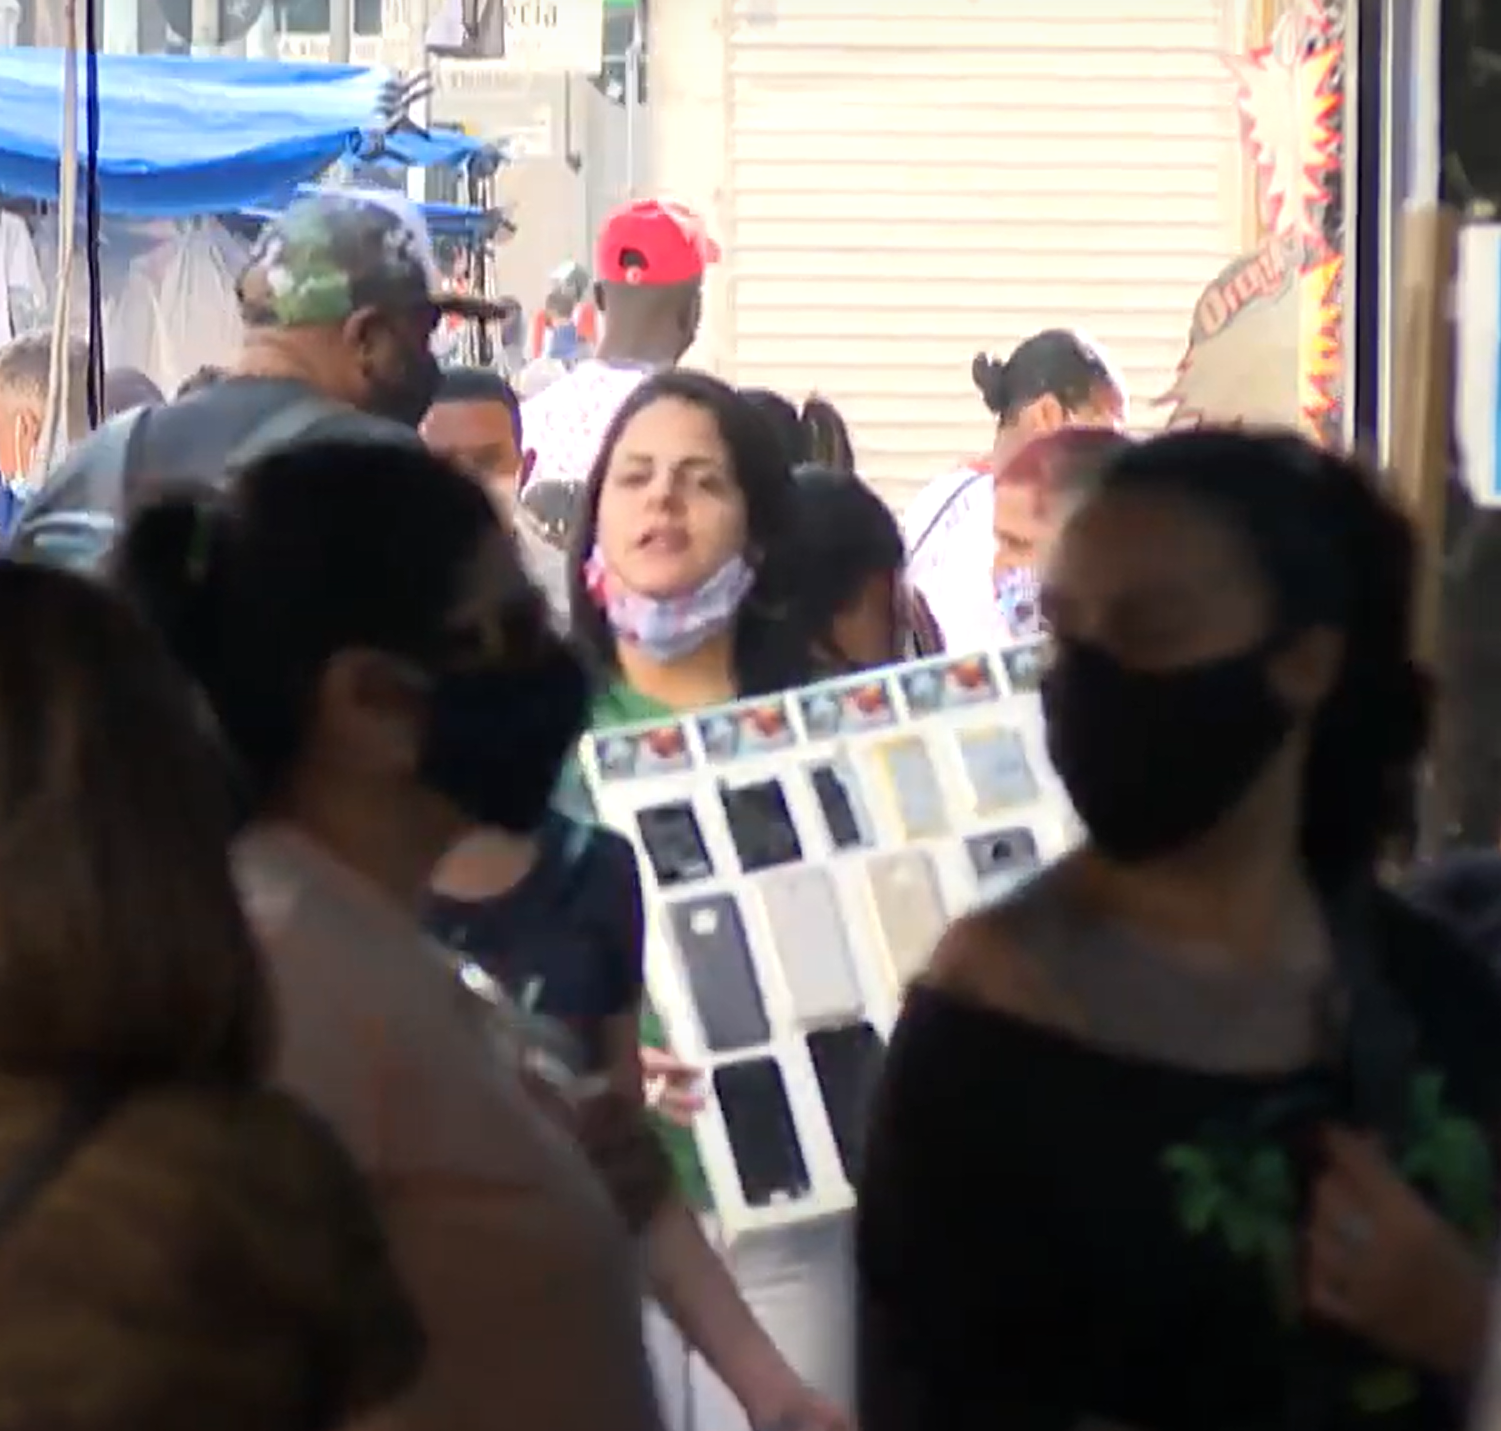mask_weared_incorrect: (580, 393, 768, 670)
